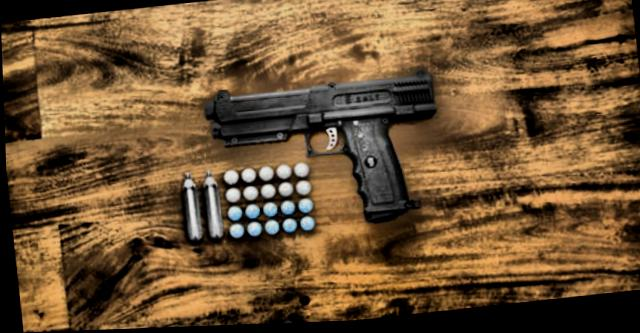pistol: (196, 66, 447, 241)
